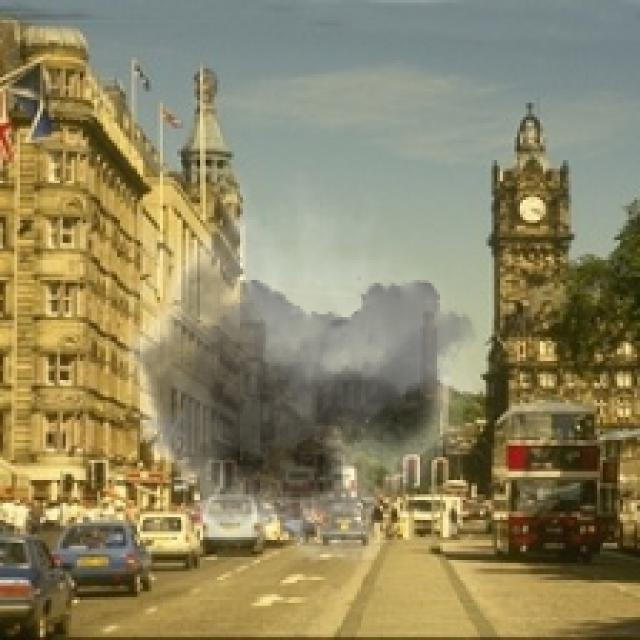smoke: (103, 168, 477, 586)
